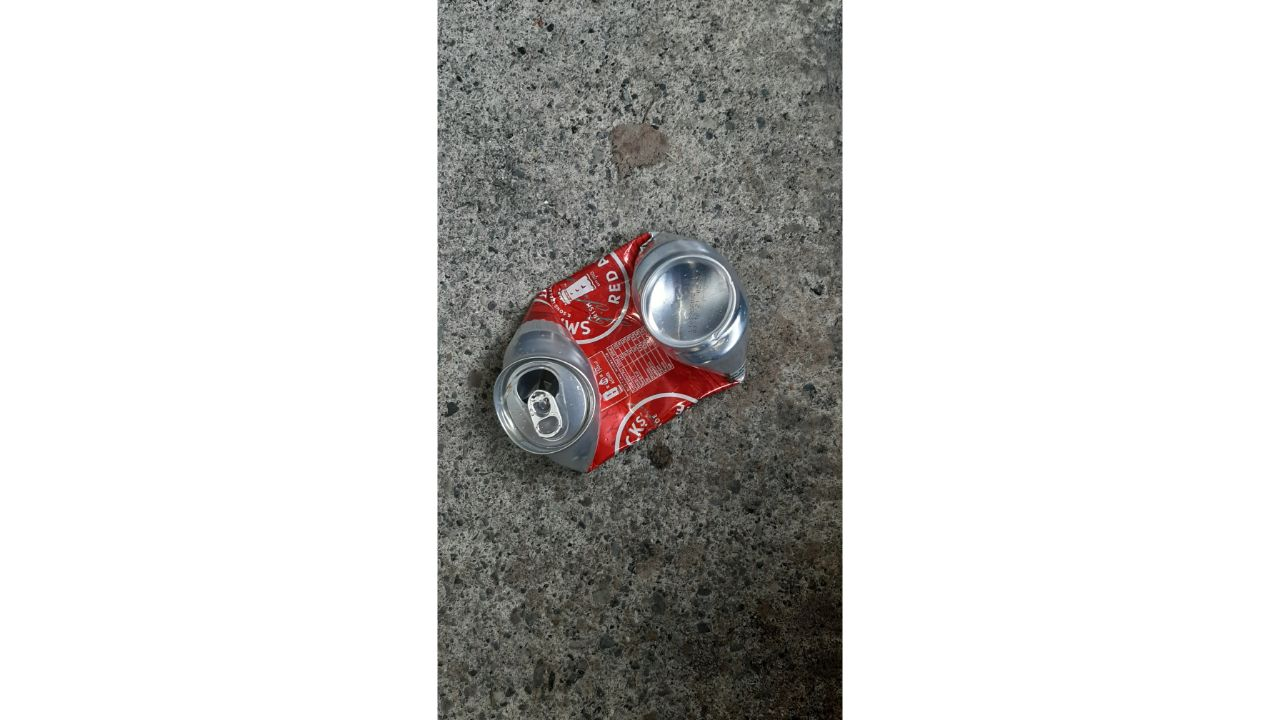Can: (494, 230, 747, 475)
